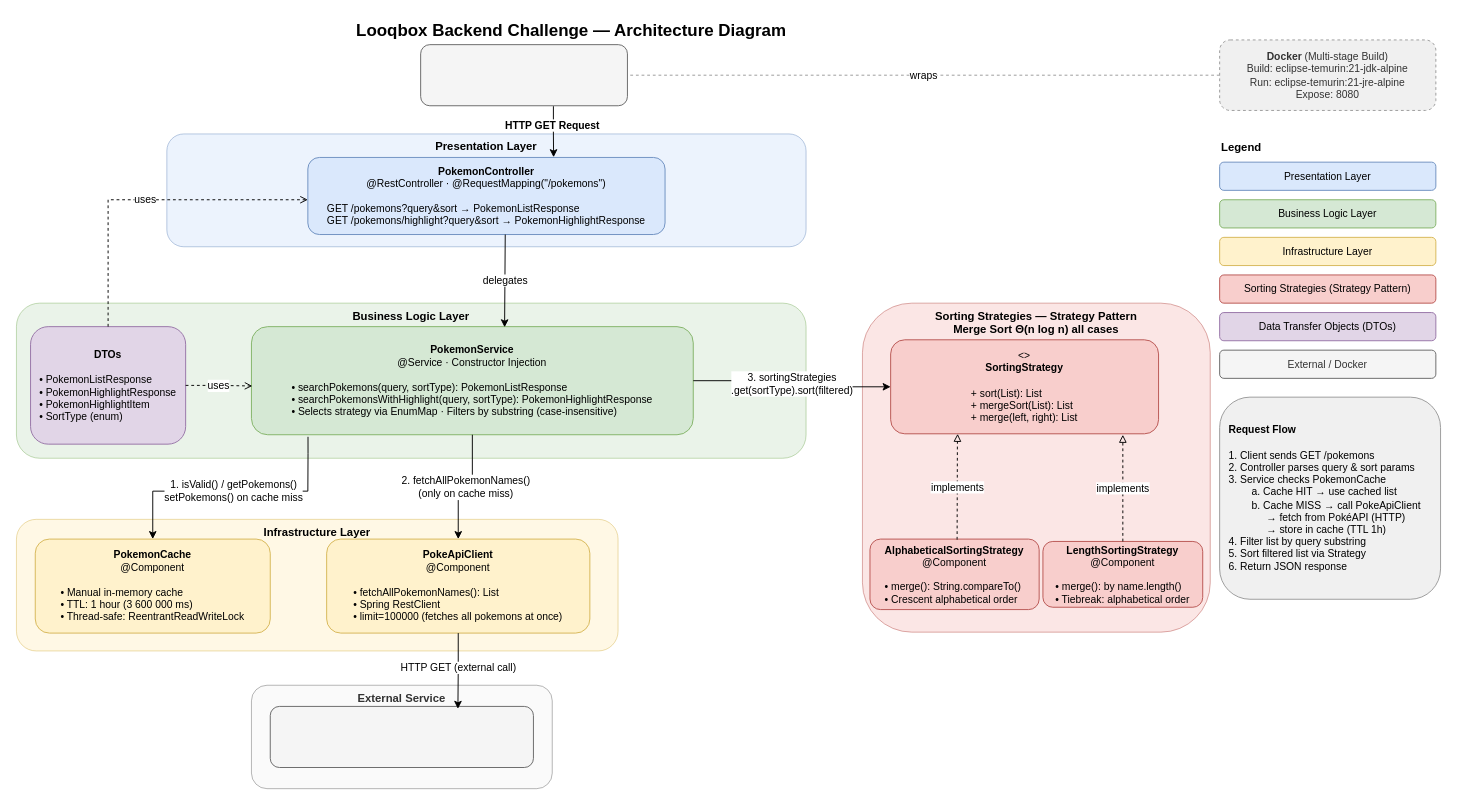
This 1457x805 diagram has some shape labels left out. The centre of each missing label's shape, as x and y in pixels:
"HTTP Client (Browser / cURL / Postman)" belongs at point 523,75.
"PokéAPI (External) https://pokeapi.co/api/v2 GET /pokemon?limit=100000&offset=0" belongs at point 401,736.
